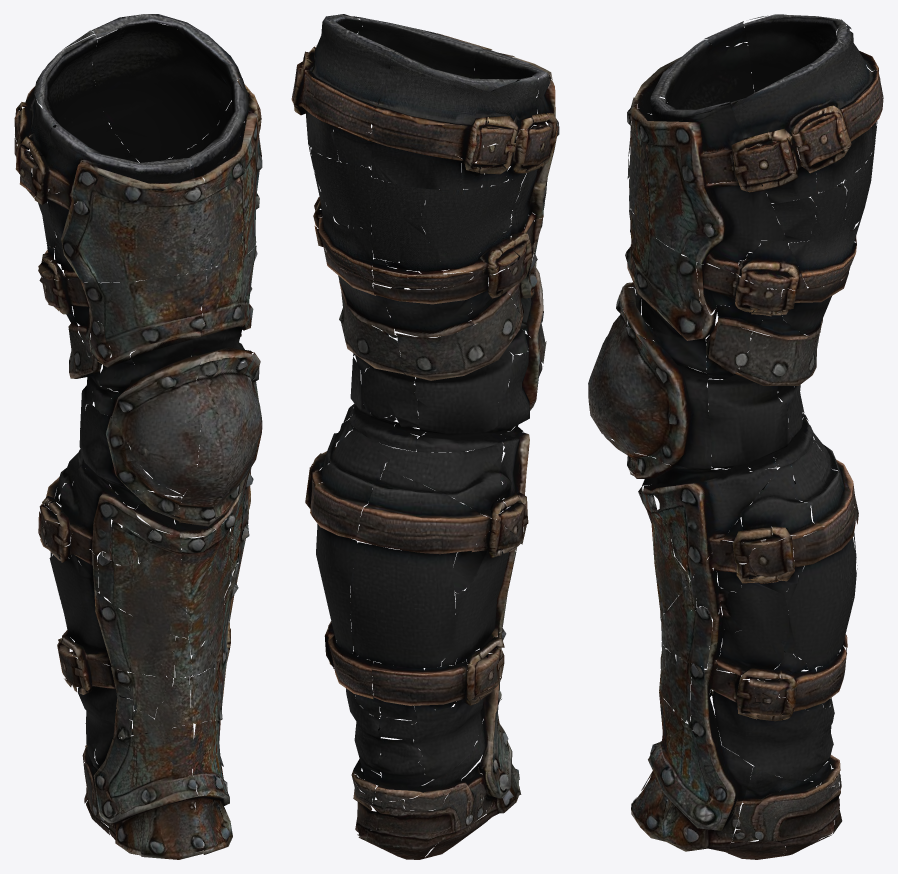
File: a_sluice_greaves.glb
3 views of the same model, side by side, from view 1: azimuth 30°, elevation 25°; view 2: azimuth 150°, elevation 25°; view 3: azimuth 270°, elevation 25° (orthographic). The views are drawn at different scales.
Parts seen in each view (by area): view 1: tripo_node_f21b655e-fed7-4f12-bf31-daf548b900f1; view 2: tripo_node_f21b655e-fed7-4f12-bf31-daf548b900f1; view 3: tripo_node_f21b655e-fed7-4f12-bf31-daf548b900f1.
Part boxes in pixels (x1,y1,x2,y2): tripo_node_f21b655e-fed7-4f12-bf31-daf548b900f1: [14, 14, 262, 859]; tripo_node_f21b655e-fed7-4f12-bf31-daf548b900f1: [291, 14, 559, 859]; tripo_node_f21b655e-fed7-4f12-bf31-daf548b900f1: [588, 14, 883, 859].
Size of the model in its own units: 0.097 by 0.32 by 0.104.
Materials: 1 (1 with a texture image).
